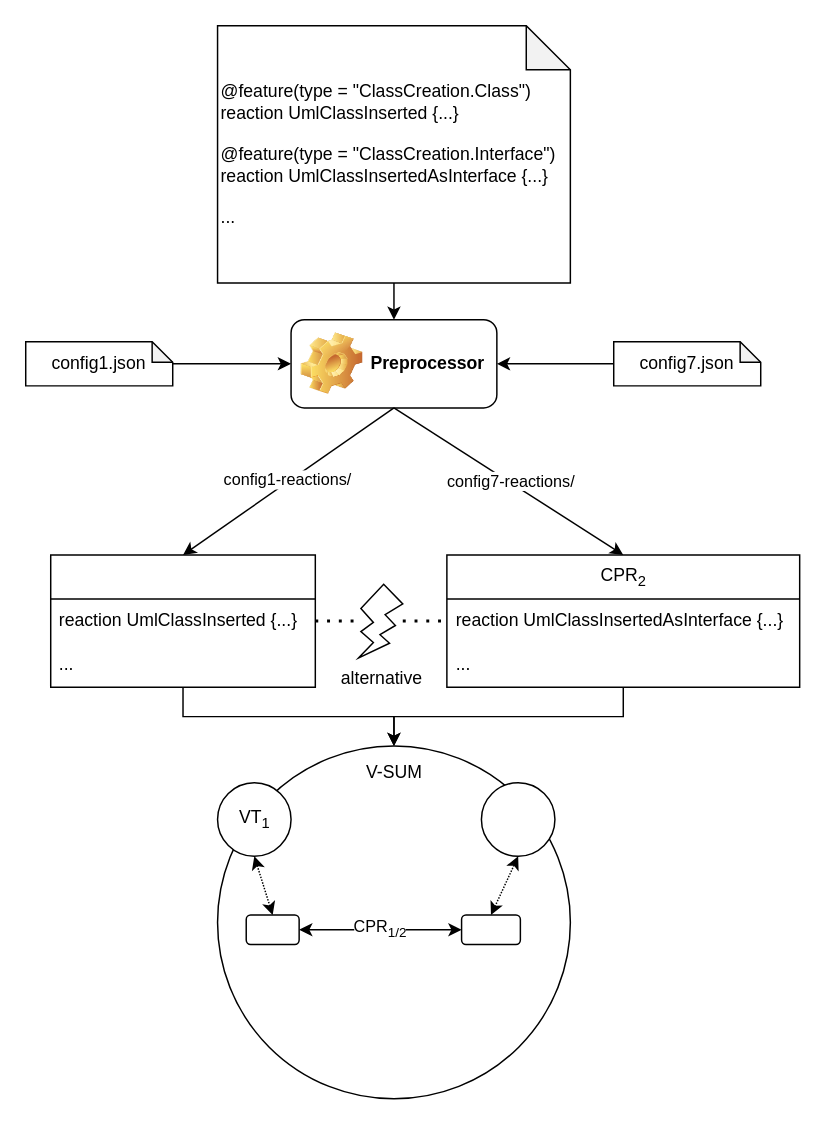
The diagram is 826 pixels wide and 1125 high, and some of its shapes have lost their labels. Here are the shapes that lost their labels. From the top down, the box of each, then its label:
(49, 553, 315, 687): CPR 1
(480, 781, 555, 856): VT 2
(245, 914, 299, 944): Java
(460, 914, 520, 944): UML
